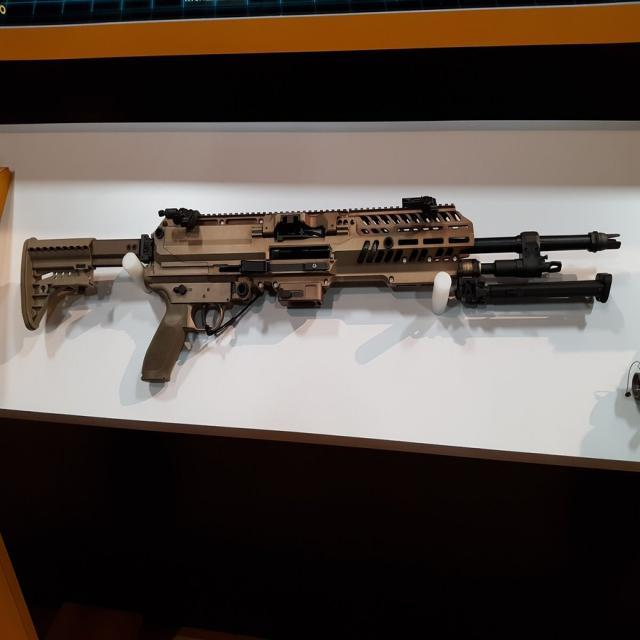weapon: (20, 194, 623, 383)
